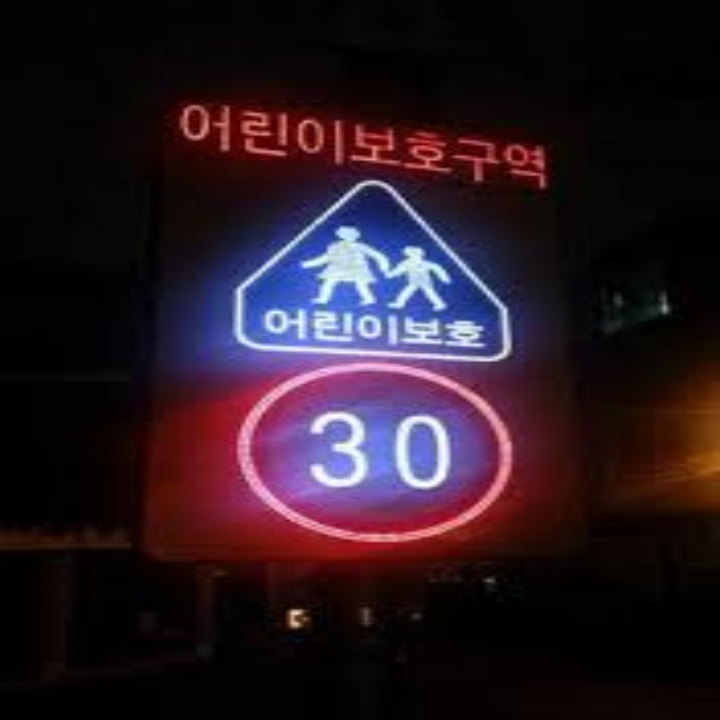child: (286, 199, 471, 316)
